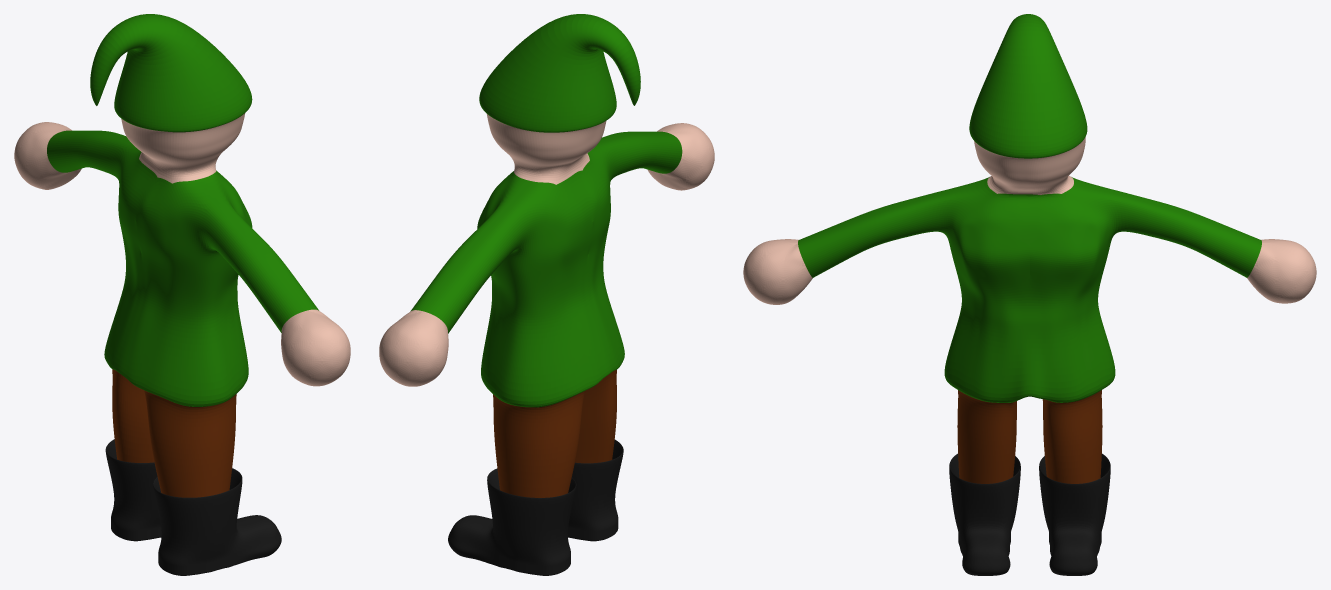
File: Archer.fbx
The picture shows the model from 3 angles, left to right: view 1: azimuth 30°, elevation 25°; view 2: azimuth 150°, elevation 25°; view 3: azimuth 270°, elevation 25°; orthographic projection. The views are drawn at different scales.
Visible parts, largest first — view 1: Cube; view 2: Cube; view 3: Cube.
Boxes of the visible parts, x1,y1,x2,y2 form: Cube: [14, 14, 350, 575]; Cube: [379, 14, 714, 575]; Cube: [743, 14, 1316, 575].
Bounding box in the file's own units: 209 × 658 × 669.
